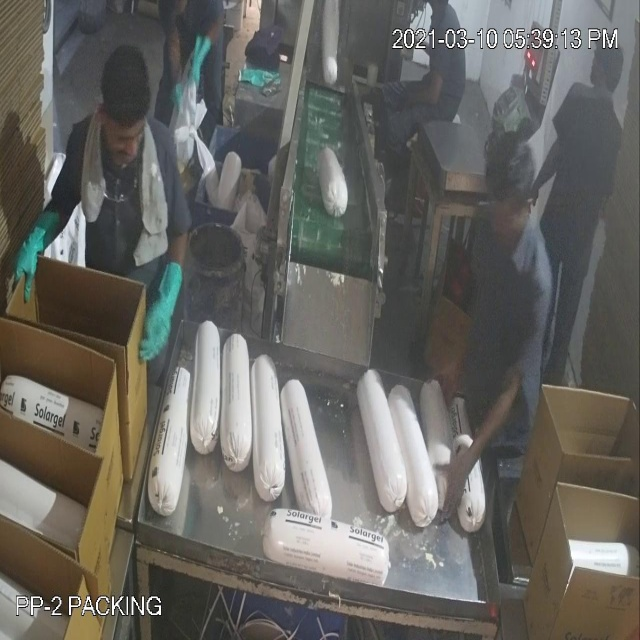Guantes: (134, 243, 189, 372), (8, 195, 67, 315)
Sin_guantes: (433, 372, 526, 538)
